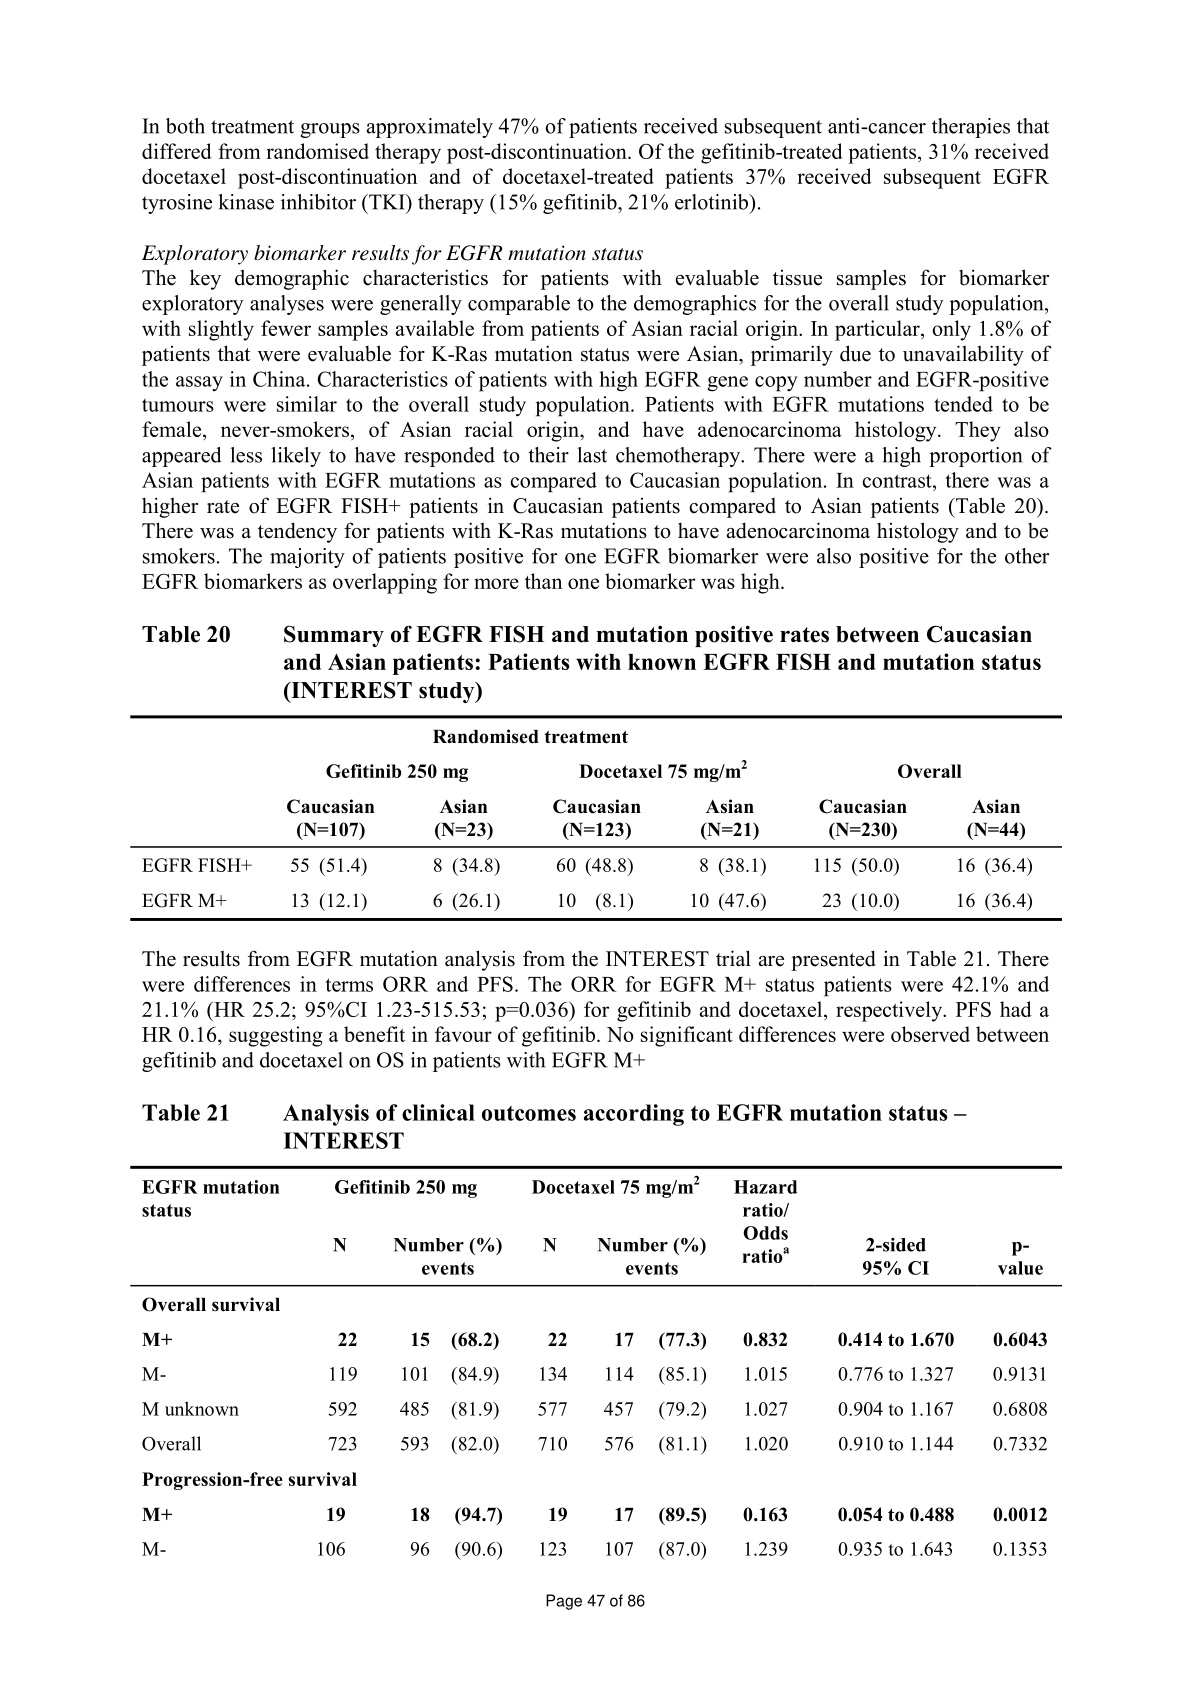partial_lined_merged_cells: (127, 1164, 1062, 1564), (127, 713, 1062, 923)
